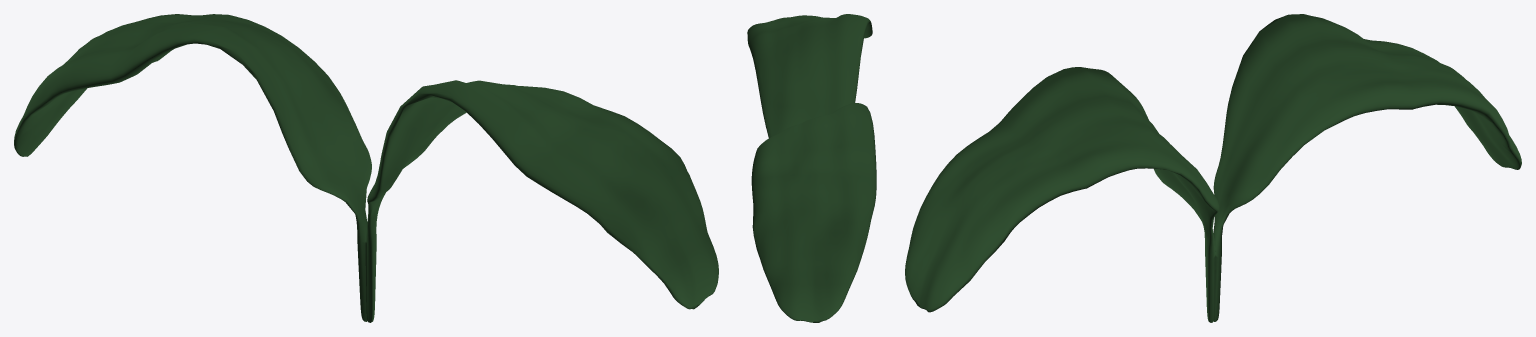
The model's file is Hoja Doble.fbx.
The picture shows the model from 3 angles, left to right: view 1: azimuth 30°, elevation 25°; view 2: azimuth 150°, elevation 25°; view 3: azimuth 270°, elevation 25°; orthographic projection. The views are drawn at different scales.
Parts seen in each view (by area): view 1: Planta_2; view 2: Planta_2; view 3: Planta_2.
Part boxes in pixels (<box>): Planta_2: <box>14,14,718,322</box>; Planta_2: <box>747,14,876,322</box>; Planta_2: <box>905,14,1521,322</box>.
Bounding box in the file's own units: 2.16 × 1.47 × 3.19.
